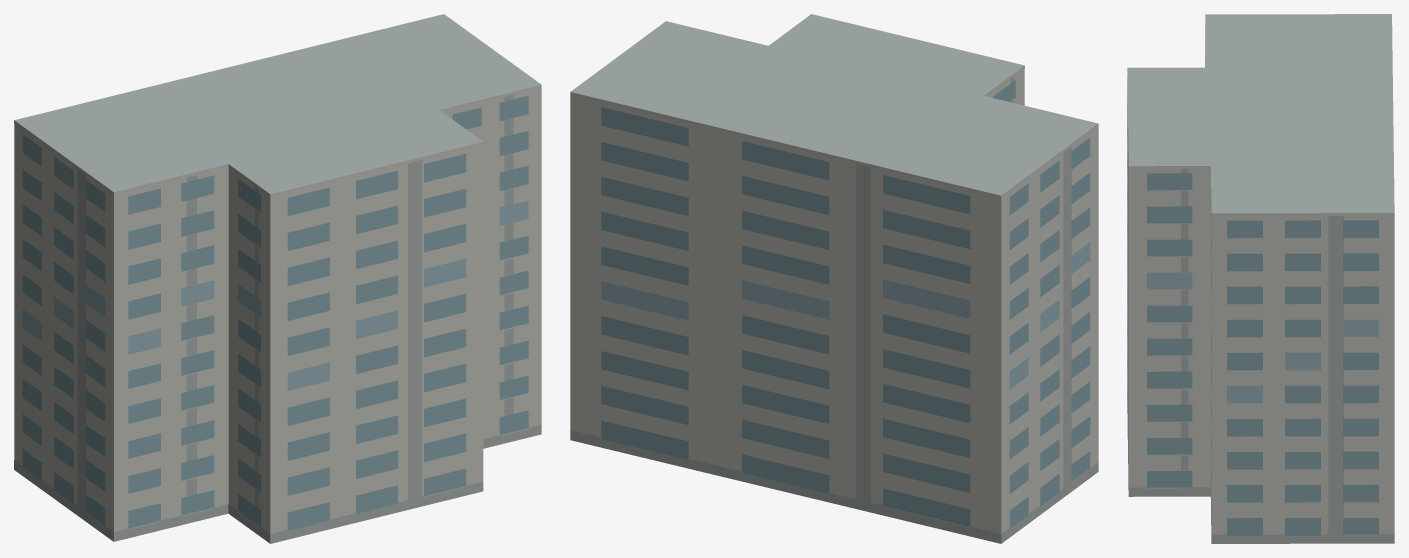
The model's file is residential-ff936b7a-1ad4-4f51-92a9-d8b6c04fbce7.glb.
3 views of the same model, side by side, from view 1: azimuth 30°, elevation 25°; view 2: azimuth 150°, elevation 25°; view 3: azimuth 270°, elevation 25° (orthographic). The views are drawn at different scales.
Parts seen in each view (by area): view 1: residential-ff936b7a-1ad4-4f51-92a9-d8b6c04fbce7.tmp; view 2: residential-ff936b7a-1ad4-4f51-92a9-d8b6c04fbce7.tmp; view 3: residential-ff936b7a-1ad4-4f51-92a9-d8b6c04fbce7.tmp.
Part boxes in pixels (bbox=[...]): residential-ff936b7a-1ad4-4f51-92a9-d8b6c04fbce7.tmp: bbox=[14, 14, 541, 543]; residential-ff936b7a-1ad4-4f51-92a9-d8b6c04fbce7.tmp: bbox=[570, 14, 1098, 543]; residential-ff936b7a-1ad4-4f51-92a9-d8b6c04fbce7.tmp: bbox=[1127, 14, 1394, 543].
Bounding box in the file's own units: 36.22 × 28 × 20.53.
